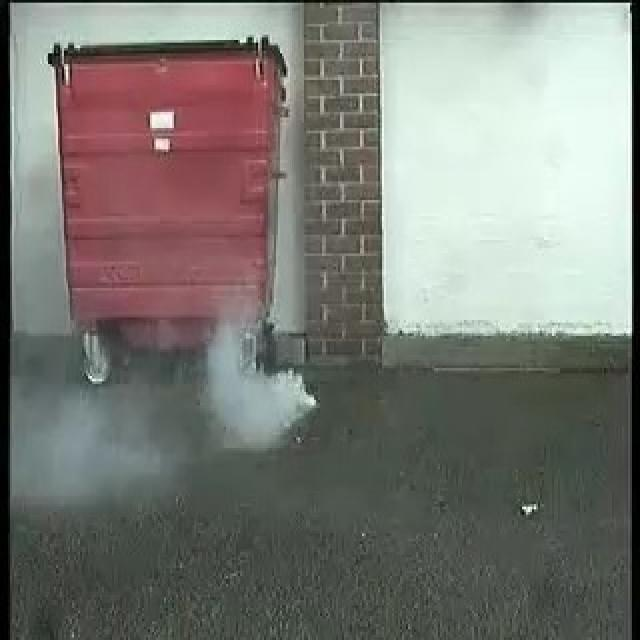smoke: (184, 278, 311, 448)
